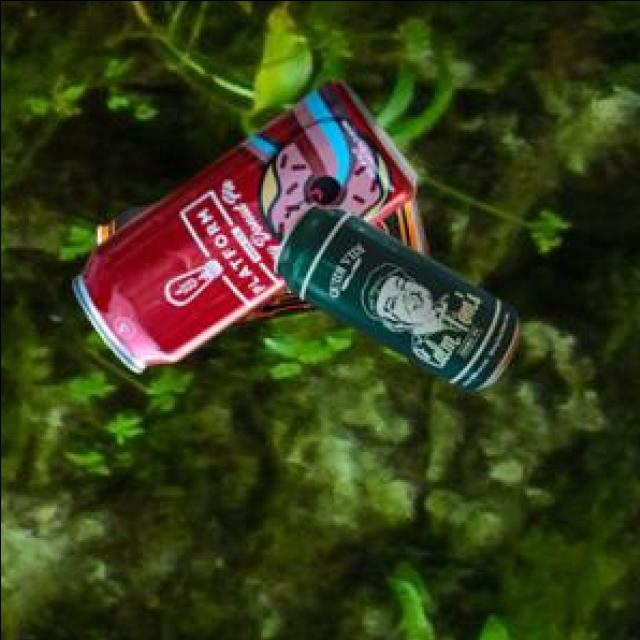logam: (76, 83, 420, 375), (276, 205, 521, 394), (227, 199, 430, 328)
